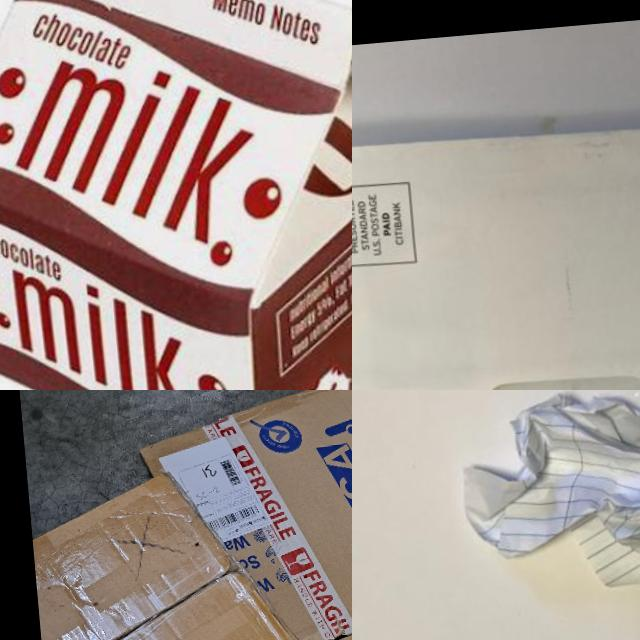caixinha: (0, 0, 352, 390)
papel: (352, 95, 640, 390), (453, 390, 640, 592)
papelão: (27, 457, 334, 640), (129, 390, 352, 640)
